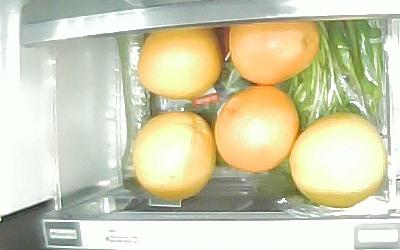grapefruit: (291, 111, 386, 208), (215, 85, 302, 174), (132, 110, 215, 203), (137, 28, 222, 99), (229, 22, 321, 85)
